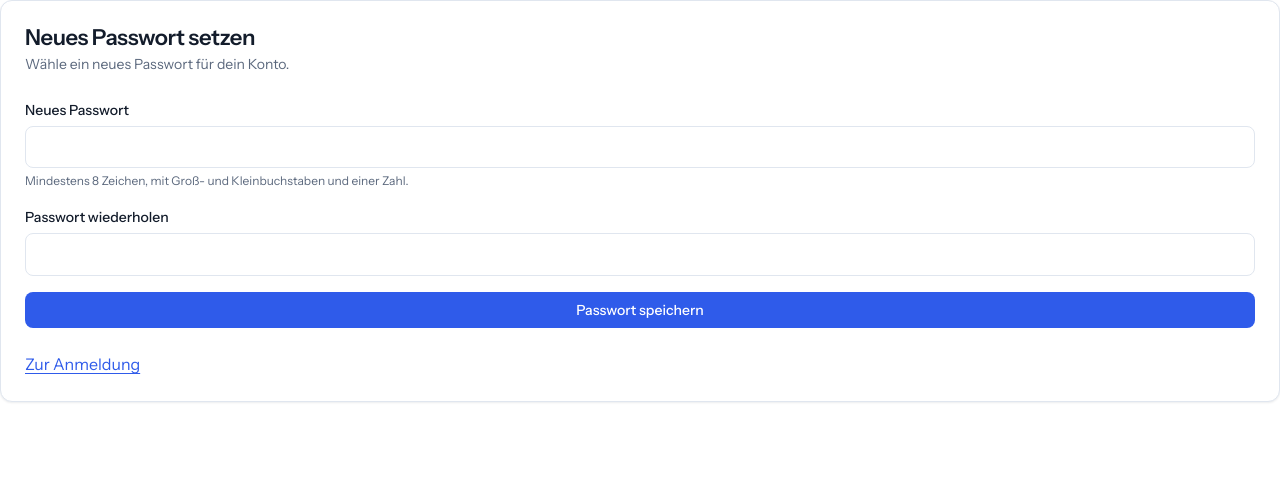
Test: ResetPasswordView › zeigt einen ungültigen Token an
Type "Passwort1" into the password field with id "reset-password" at (640, 147), box [25,126,1255,168]
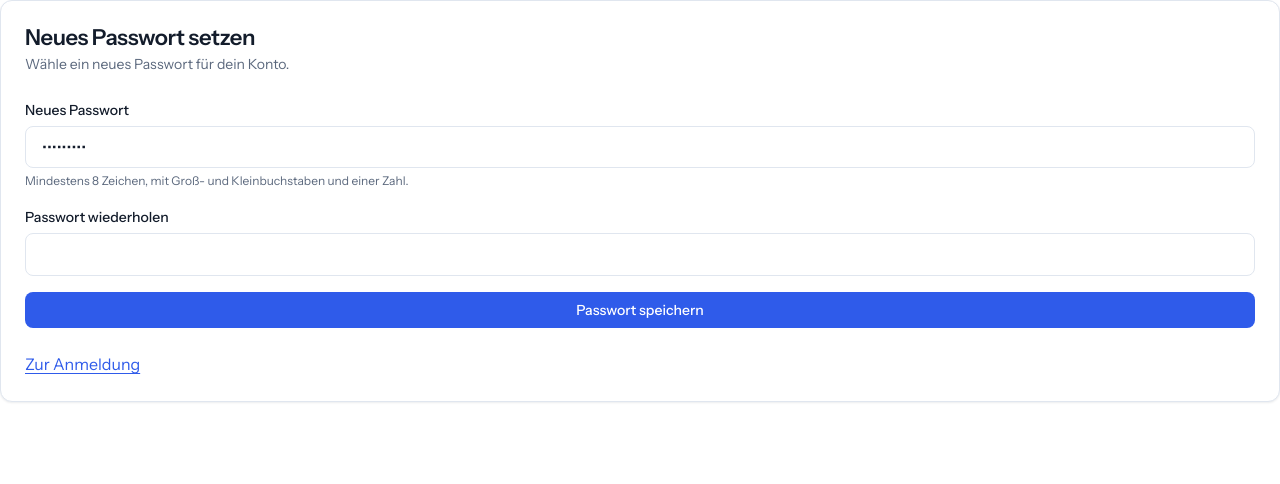
Type "Passwort1" into the password field with id "reset-password-confirm" at (640, 254), box [25,233,1255,276]
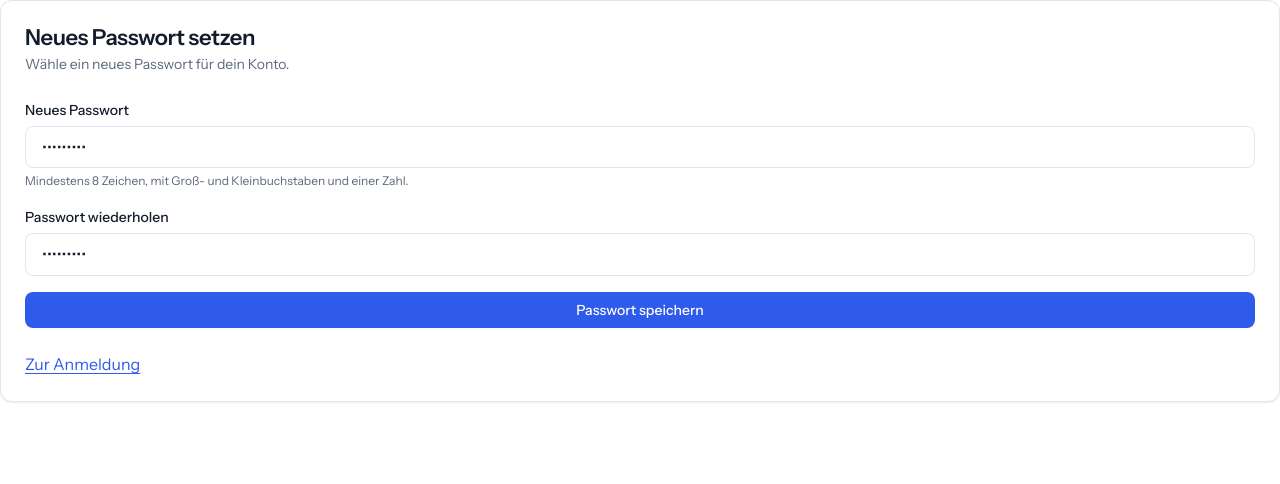
Submit the form, box [25,100,1255,328]
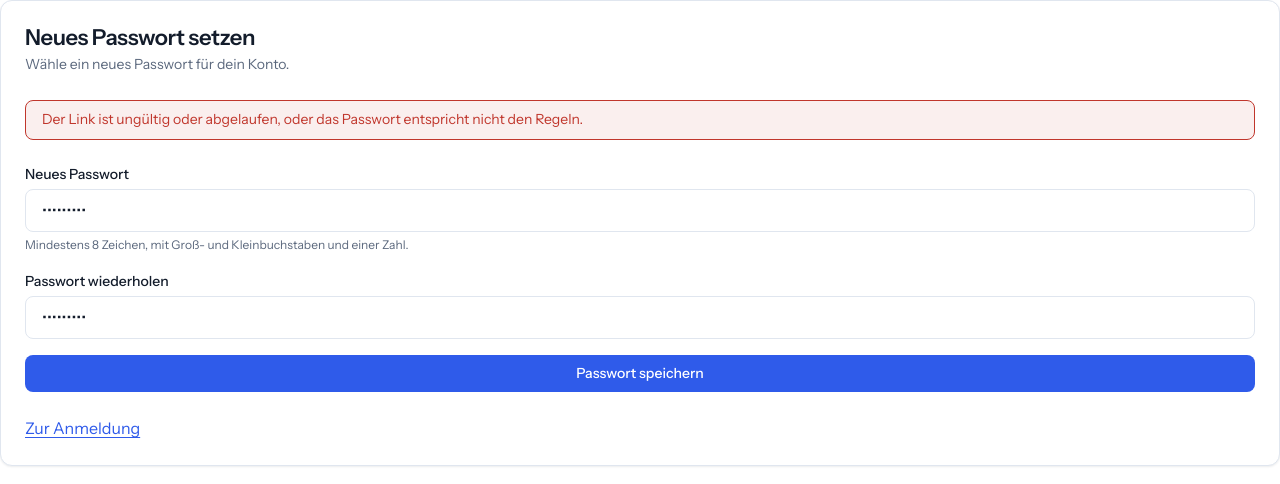
Result: the text "Der Link ist ungültig oder abgelaufen, oder das Passwort entspricht nicht den Regeln." is shown at [42,110,583,128]
